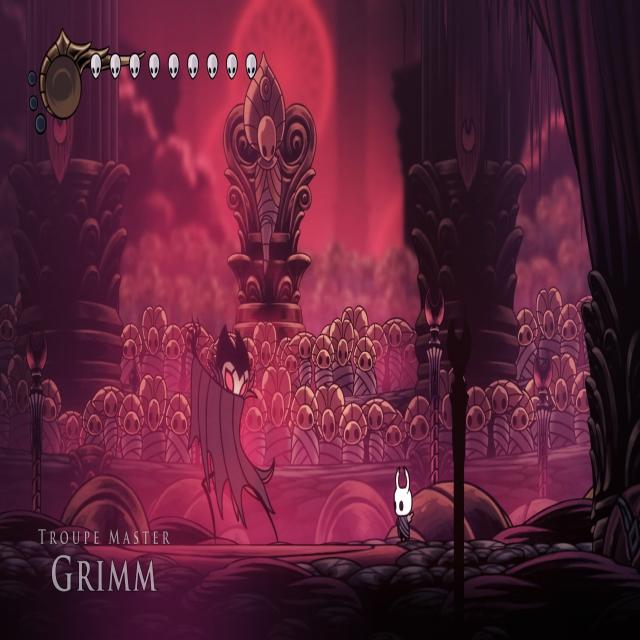Dash Uppercut: (184, 316, 280, 543)
Player: (389, 460, 415, 546)
